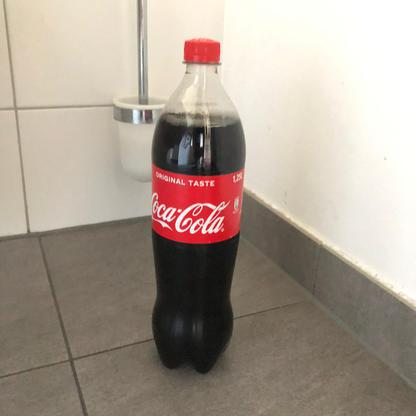coca-cola: (147, 37, 247, 380)
